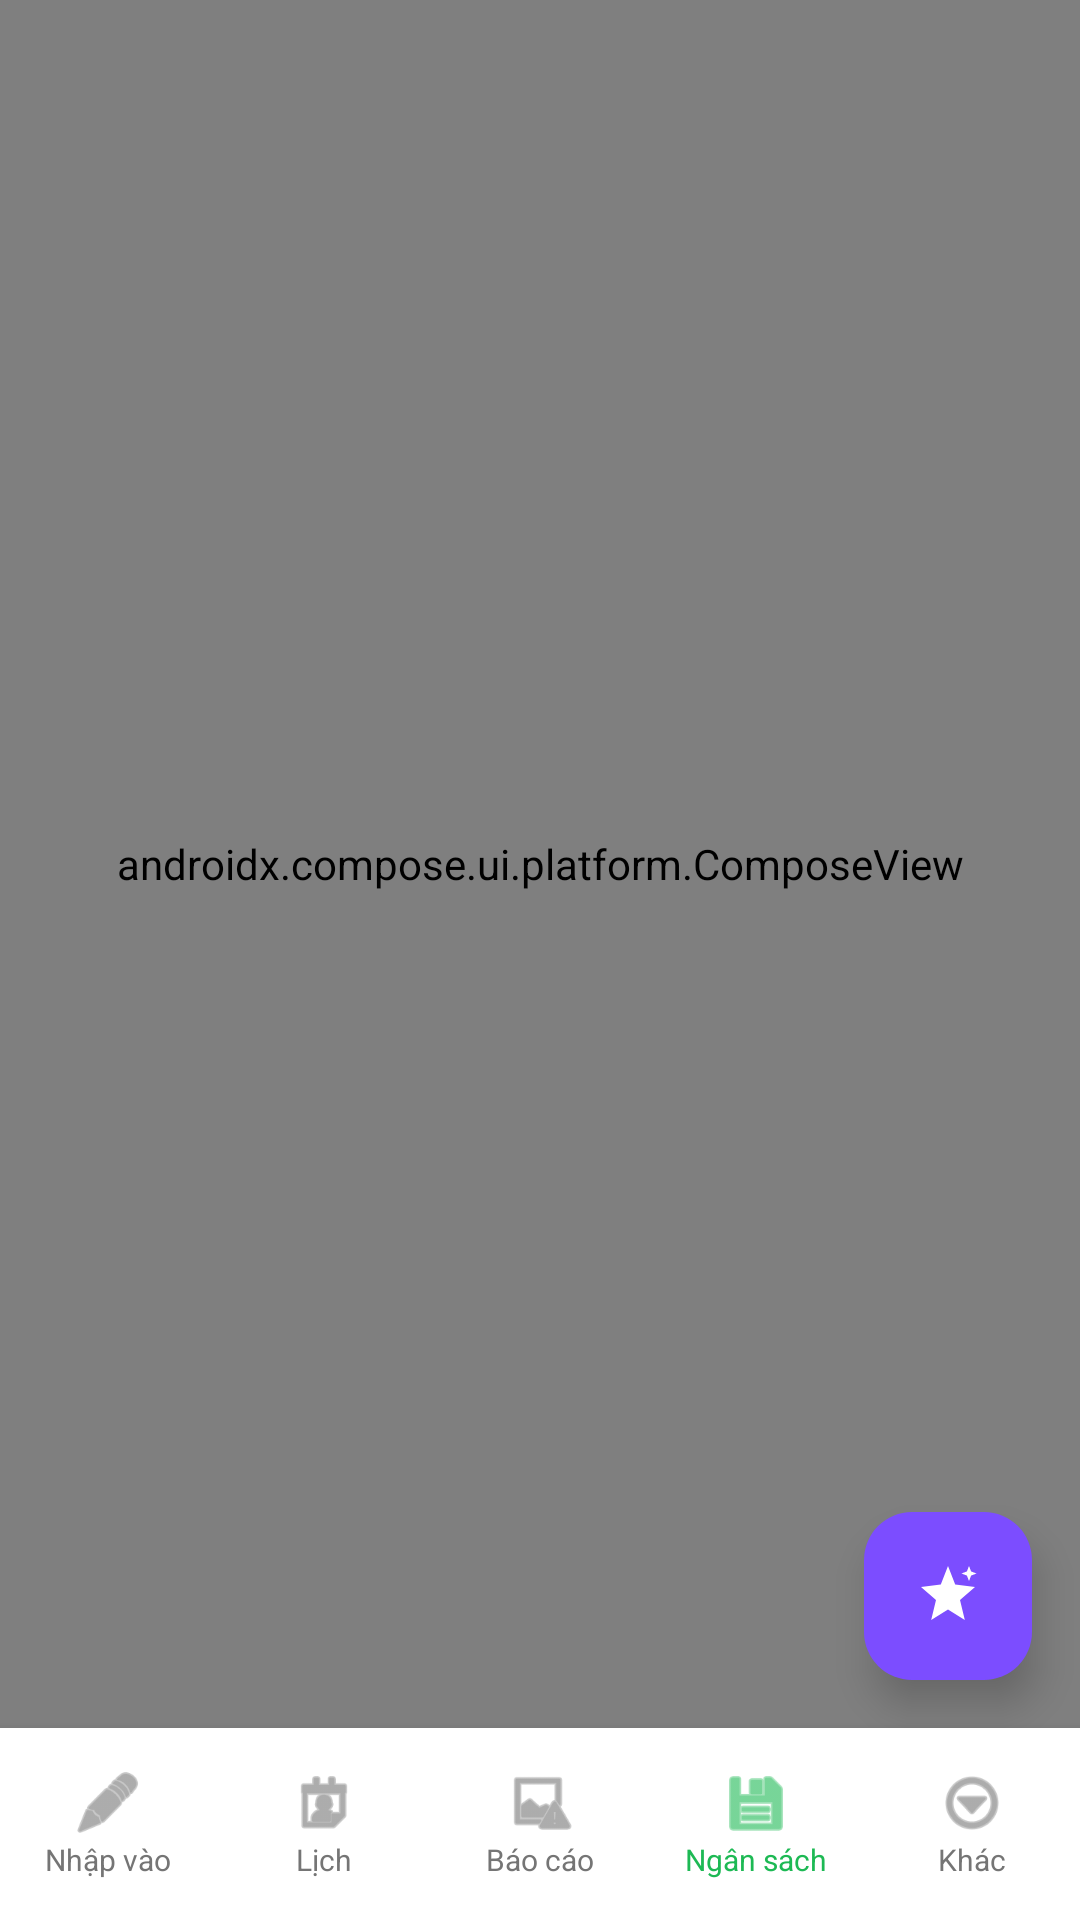

Locate icon controls on the screen. Image size 1080*1920, boxes as (x1, y1, x2, y2).
edit: (77, 1772, 138, 1833)
save: (729, 1776, 783, 1831)
Trợ lý AI: (864, 1512, 1032, 1680)
